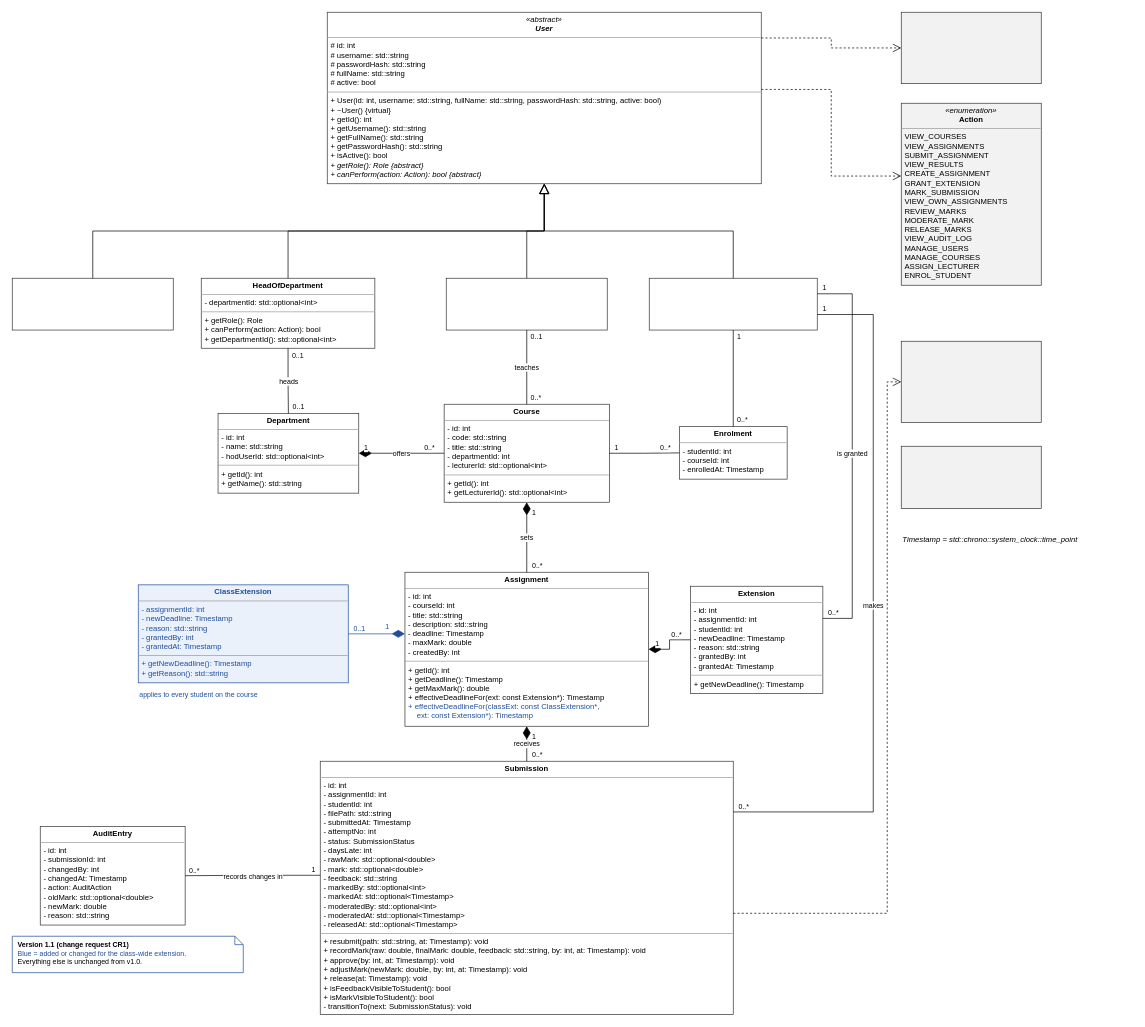
Image size: 1145x1027. Some labels were removed from this diagram. The shapes that lost their labels are listed below. From the top down, each one's box as (x1, y1, x2, y2) in pixels, then its label:
(901, 12, 1041, 84): «enumeration» Role STUDENT LECTURER HOD ADMIN
(12, 278, 173, 330): Administrator + getRole(): Role + canPerform(action: Action): bool
(446, 278, 607, 330): Lecturer + getRole(): Role + canPerform(action: Action): bool
(649, 278, 817, 330): Student + getRole(): Role + canPerform(action: Action): bool
(901, 341, 1041, 422): «enumeration» SubmissionStatus SUBMITTED LATE MARKED MODERATED RELEASED
(901, 446, 1041, 509): «enumeration» AuditAction MARK REMARK MODERATE
